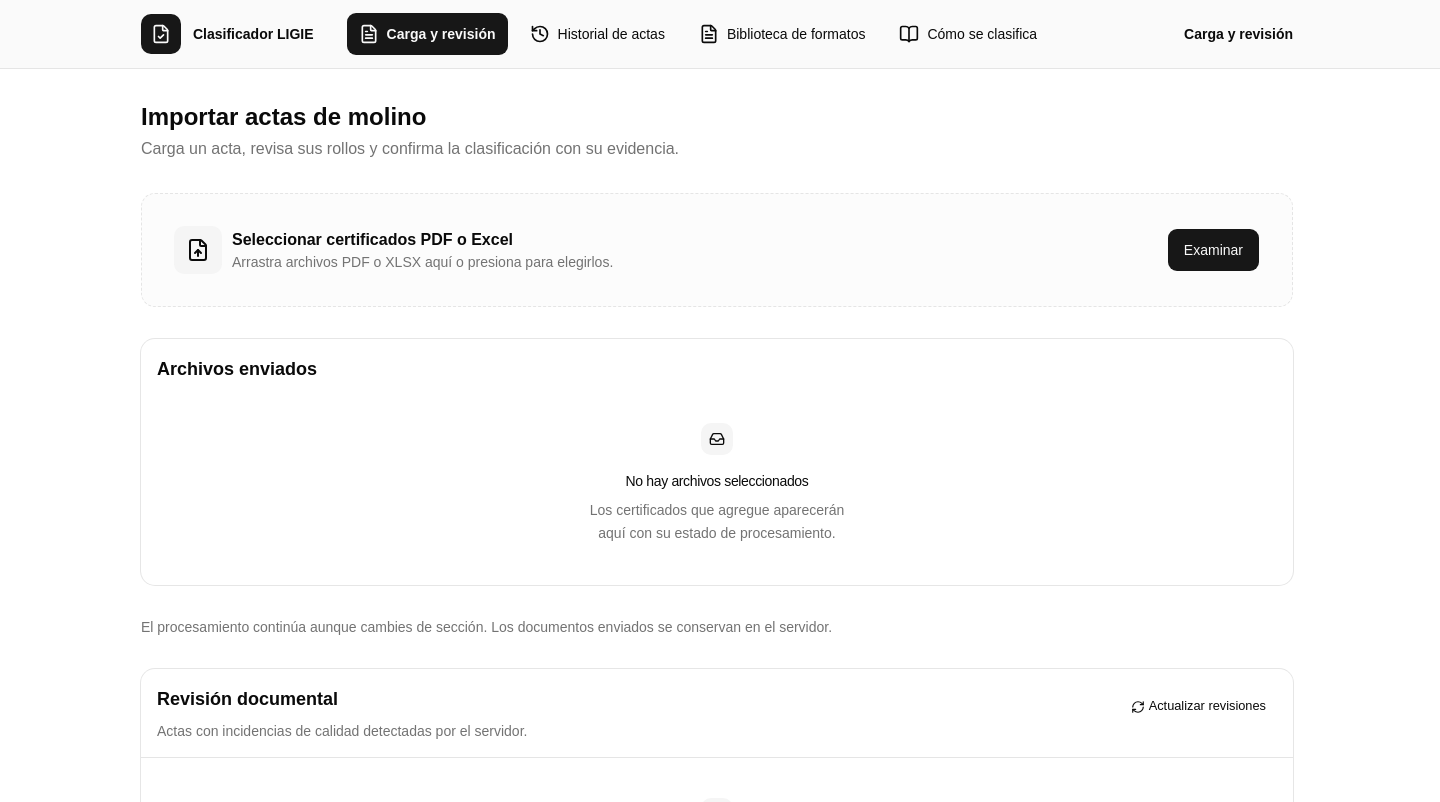
Scenario: Exportación del acta completa › anuncia la espera e impide duplicar solicitudes durante el procesamiento
Click the button "Historial de actas": (597, 34) [516,12,678,56]
(page scrolled)
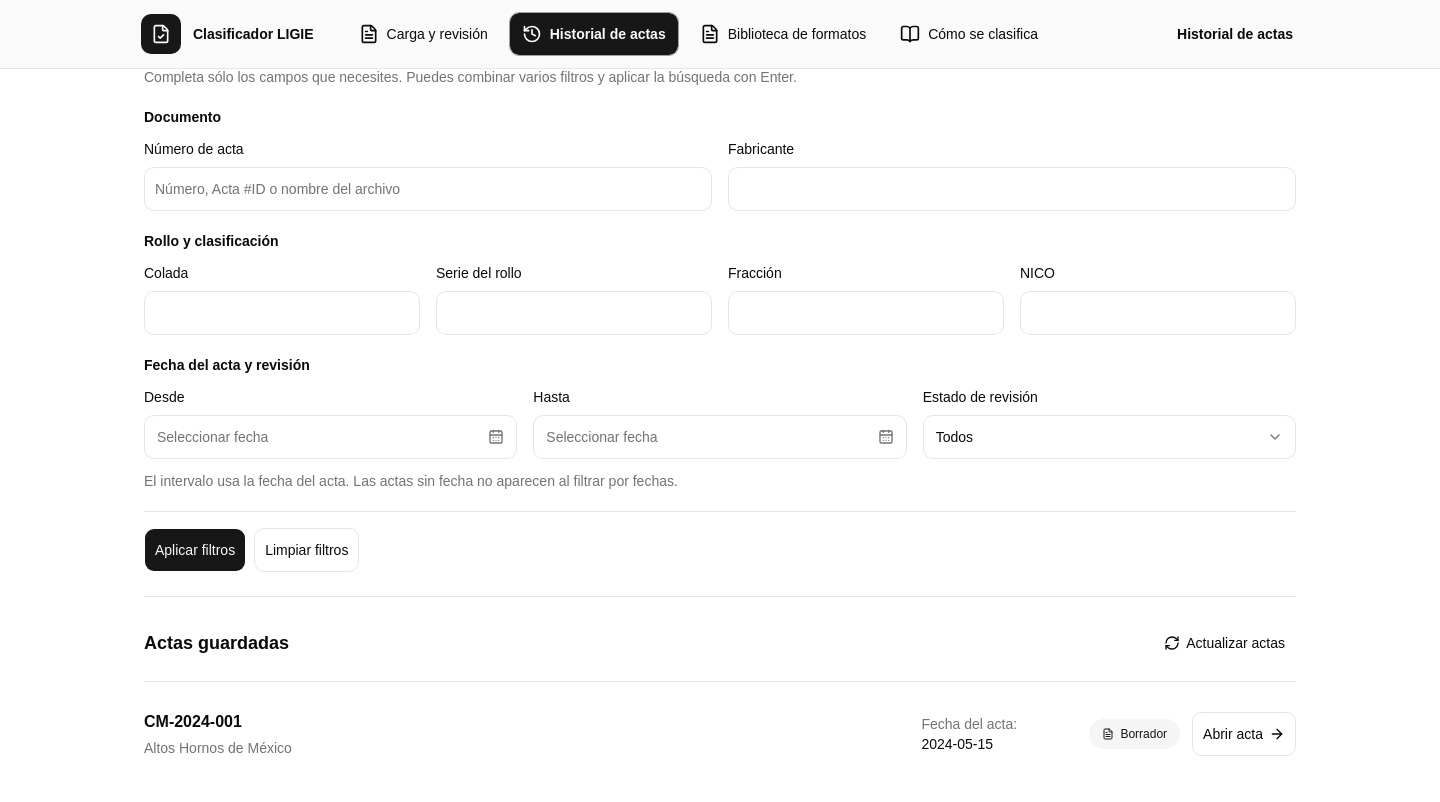
Click the button "Abrir acta": (1244, 734) [1192,712,1296,756]
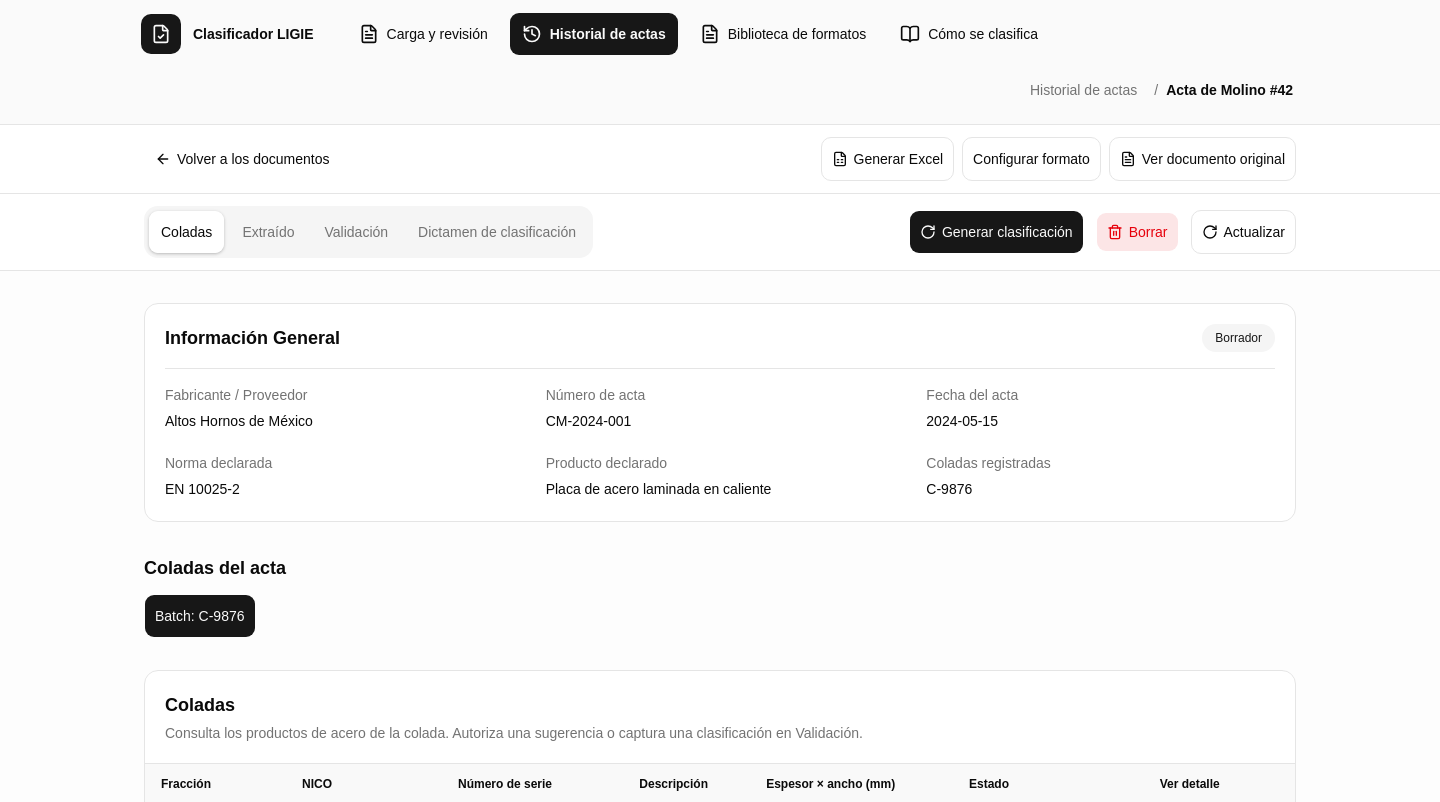
Now the button "Generar Excel" is enabled
Click the button "Generar Excel": (887, 159) [821,137,954,181]
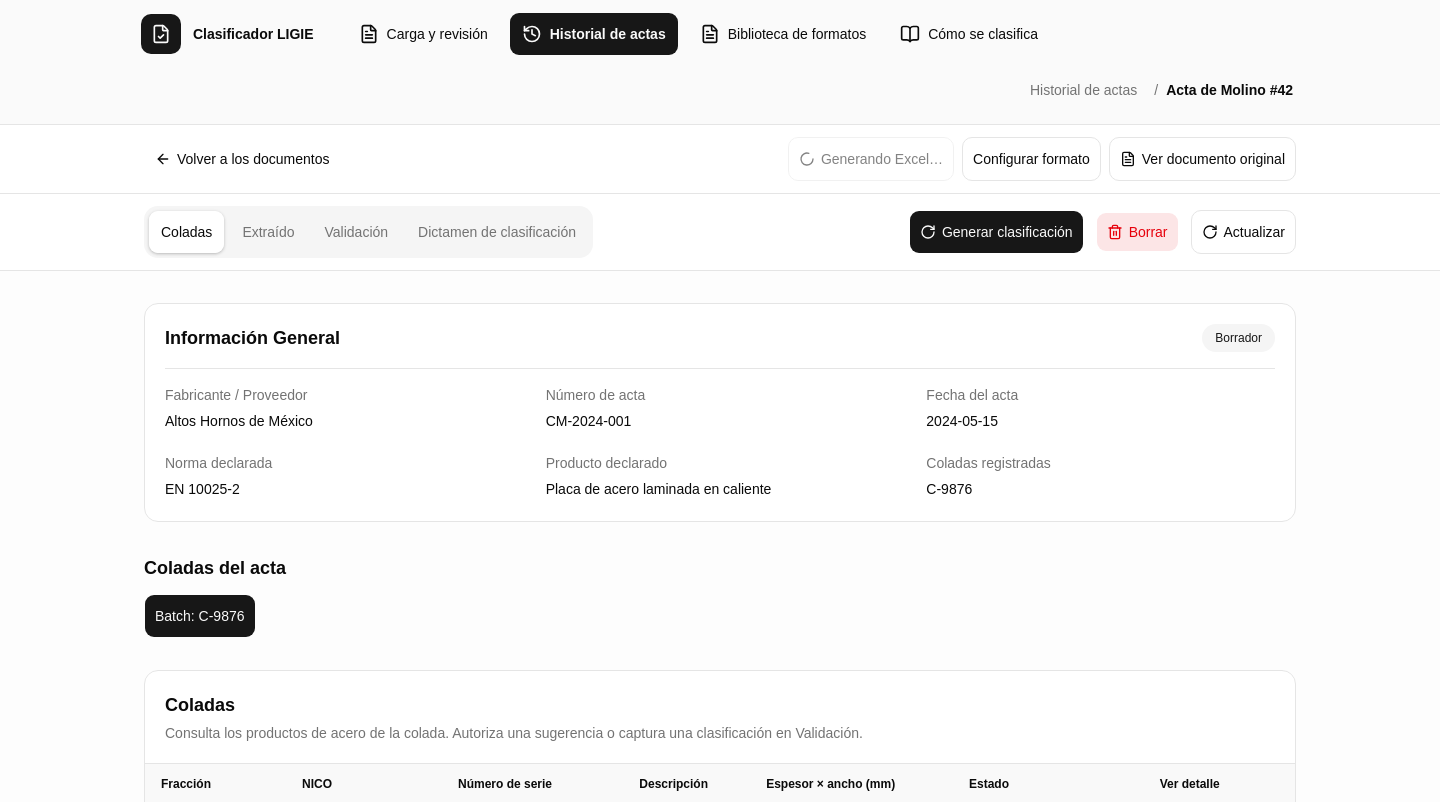
Now the button "Generando Excel…" is disabled
Click the button "Generando Excel…": (871, 159) [788,137,954,181]
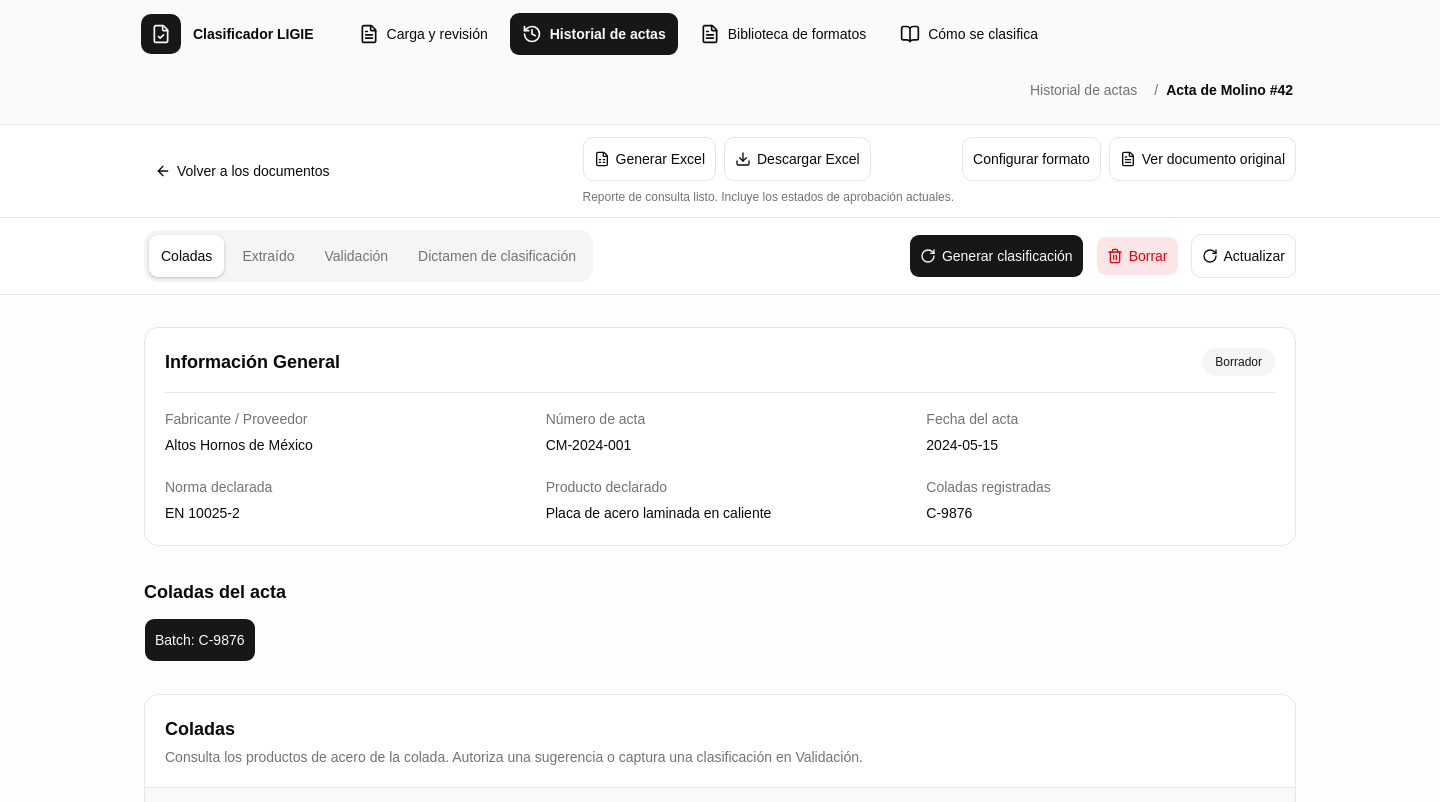
Now the link "Descargar Excel" is shown, box [724,137,871,181]
